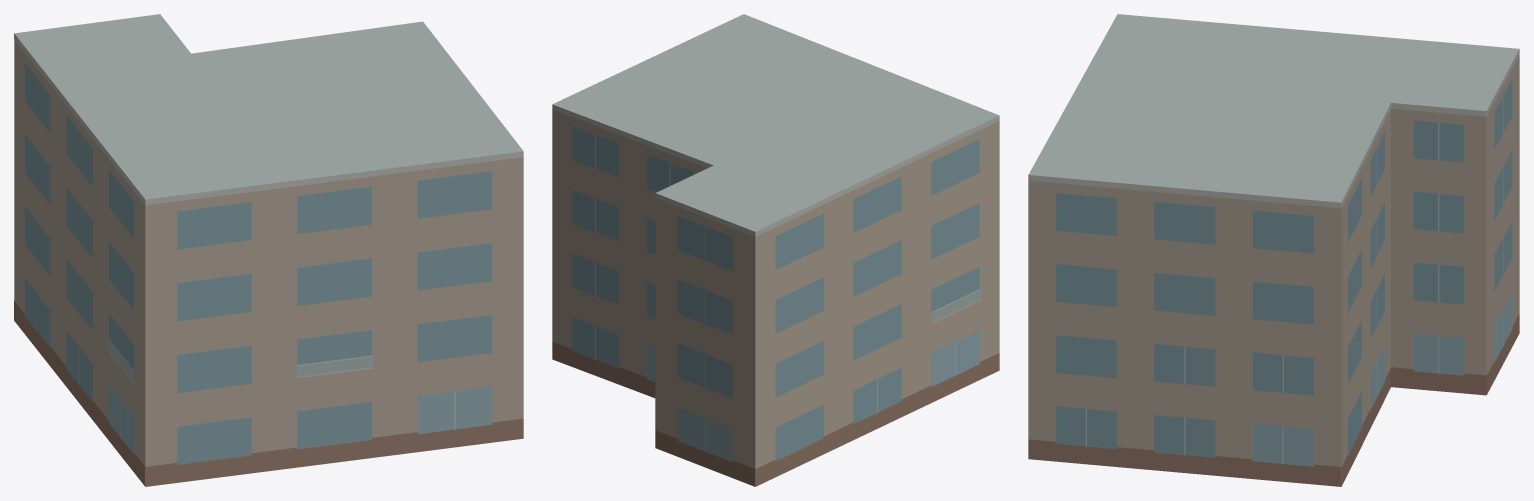
The model's file is survey-upis-32858260.glb.
The picture shows the model from 3 angles, left to right: view 1: azimuth 30°, elevation 25°; view 2: azimuth 150°, elevation 25°; view 3: azimuth 270°, elevation 25°; orthographic projection. The views are drawn at different scales.
Visible parts, largest first — view 1: survey-upis-32858260.tmp; view 2: survey-upis-32858260.tmp; view 3: survey-upis-32858260.tmp.
Part boxes in pixels (x1,y1,x2,y2): survey-upis-32858260.tmp: [14, 14, 523, 486]; survey-upis-32858260.tmp: [552, 14, 999, 486]; survey-upis-32858260.tmp: [1028, 14, 1519, 486].
Size of the model in its own units: 17.24 by 12.1 by 18.97.
